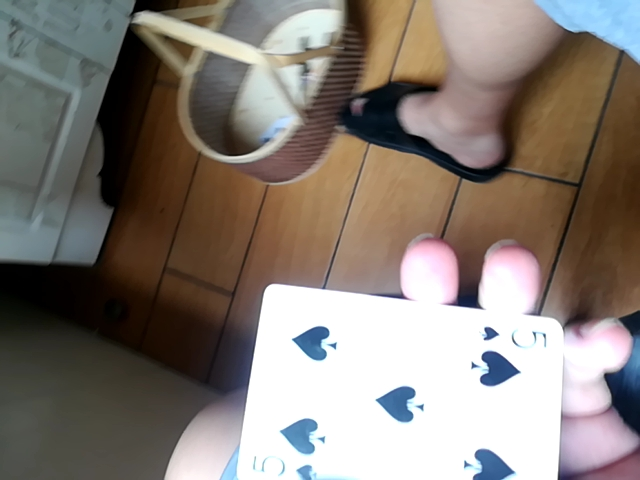ht 5: (238, 283, 564, 477)
